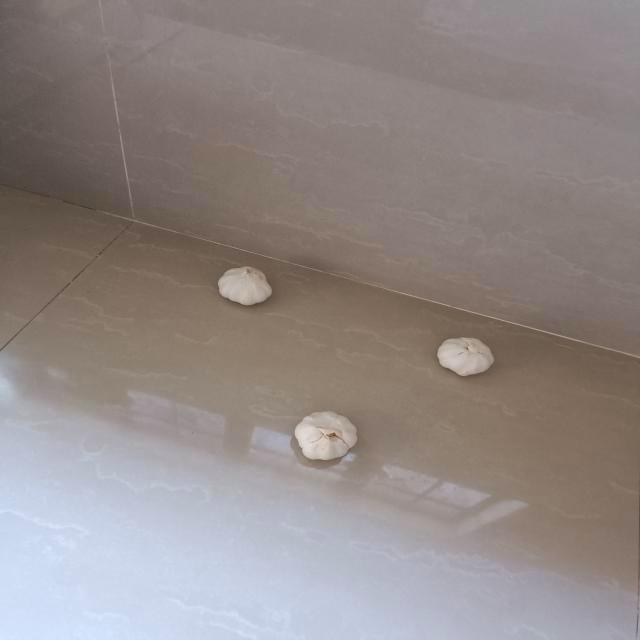garlic: (291, 407, 363, 465), (433, 333, 499, 378), (213, 265, 278, 308)
